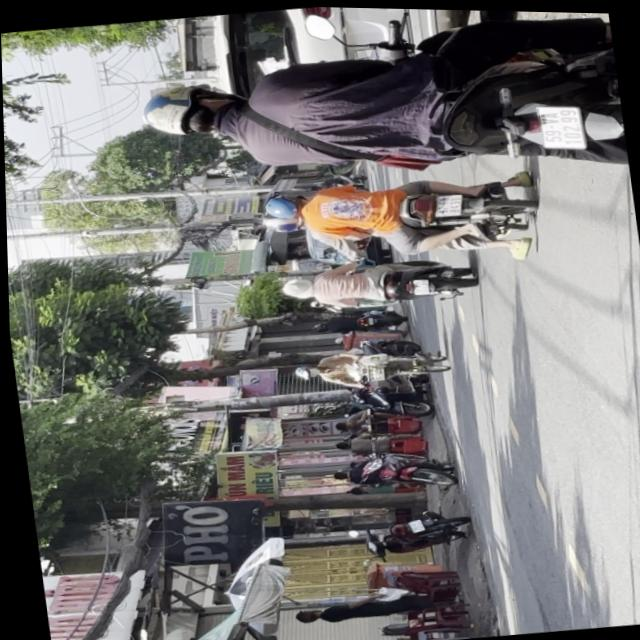helmet: (138, 78, 243, 142), (260, 190, 305, 219), (266, 214, 303, 233)
licenseplate: (127, 2, 629, 219), (256, 159, 540, 275), (274, 246, 478, 316)
motorcyclist: (277, 275, 313, 298)
nohelmet: (535, 100, 583, 148), (431, 189, 463, 215), (409, 276, 428, 292)
